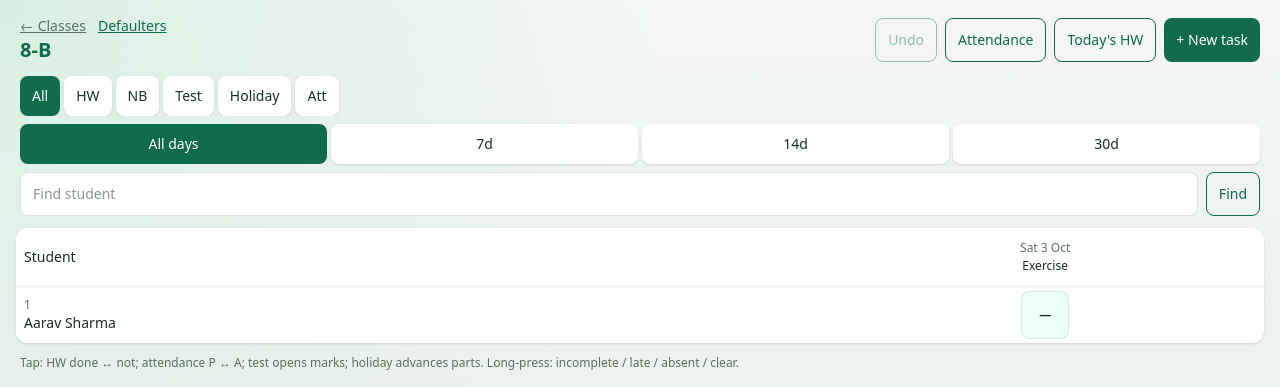
it: TickGridPage status errors › undo restores the previous status after a tap
Expected: the button "Undo" is disabled, [875,18,937,62]
Click the button named "Aarav Sharma Exercise".
click(1045, 315)  # box [1021,291,1069,339]
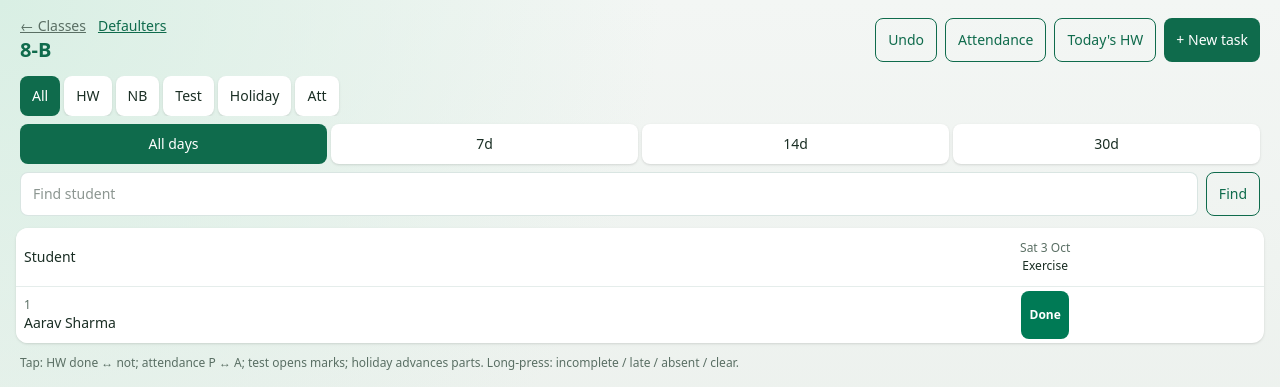
Expected: the button with aria-label "Aarav Sharma Exercise" reads "Done", [1021,291,1069,339]
Expected: the button "Undo" is enabled
Click the button "Undo".
click(906, 40)  # box [875,18,937,62]
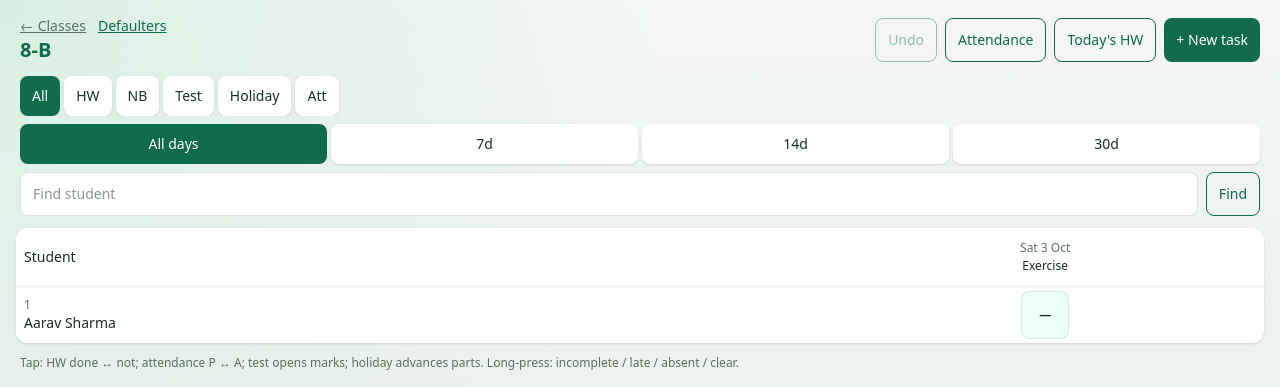
Expected: the button "Undo" is disabled, [875,18,937,62]
